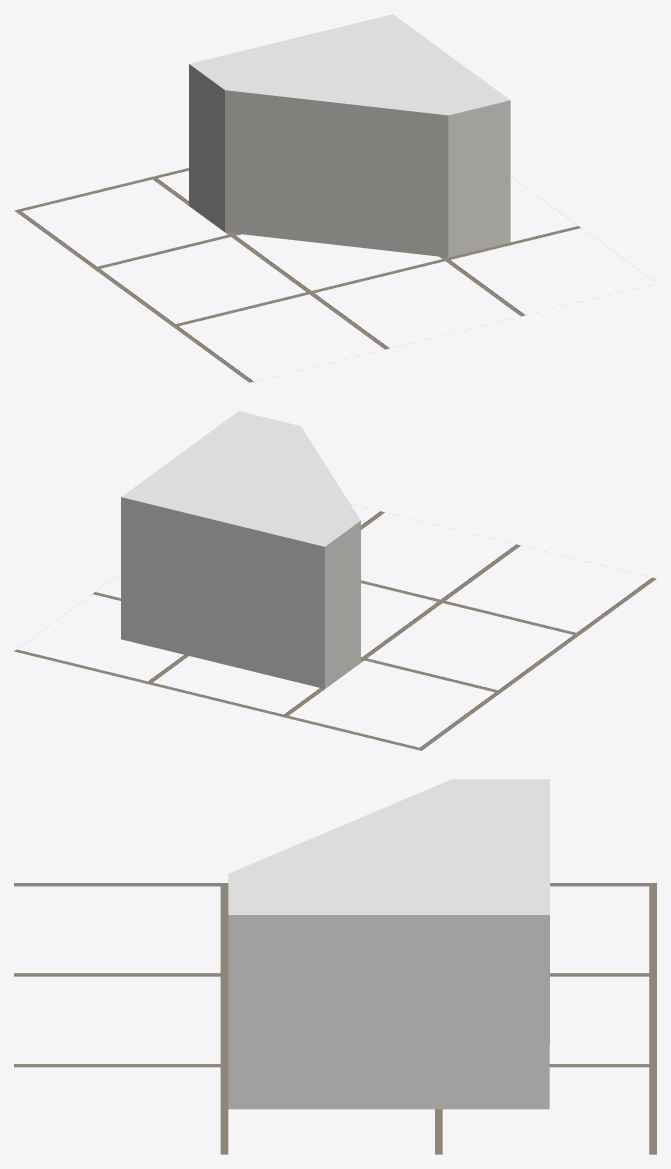
File: Basic_Curve_Outer_2x2_Wide_Mid.glb
The picture shows the model from 3 angles, top to bottom: view 1: azimuth 30°, elevation 25°; view 2: azimuth 150°, elevation 25°; view 3: azimuth 270°, elevation 25°; orthographic projection. The views are drawn at different scales.
Visible parts, largest first — view 1: Basic_Curve_Outer_2x2_Wide_Mid, Floor; view 2: Basic_Curve_Outer_2x2_Wide_Mid, Floor; view 3: Basic_Curve_Outer_2x2_Wide_Mid, Floor.
Part boxes in pixels (left/top/right/bottom): Basic_Curve_Outer_2x2_Wide_Mid: left=189, top=14, right=510, bottom=257; Floor: left=14, top=168, right=580, bottom=382; Basic_Curve_Outer_2x2_Wide_Mid: left=121, top=411, right=360, bottom=688; Floor: left=14, top=511, right=656, bottom=750; Basic_Curve_Outer_2x2_Wide_Mid: left=228, top=779, right=549, bottom=1109; Floor: left=14, top=883, right=656, bottom=1154.
Bounding box in the file's own units: 300 × 100 × 300.
Materials: 3 (1 with a texture image).
